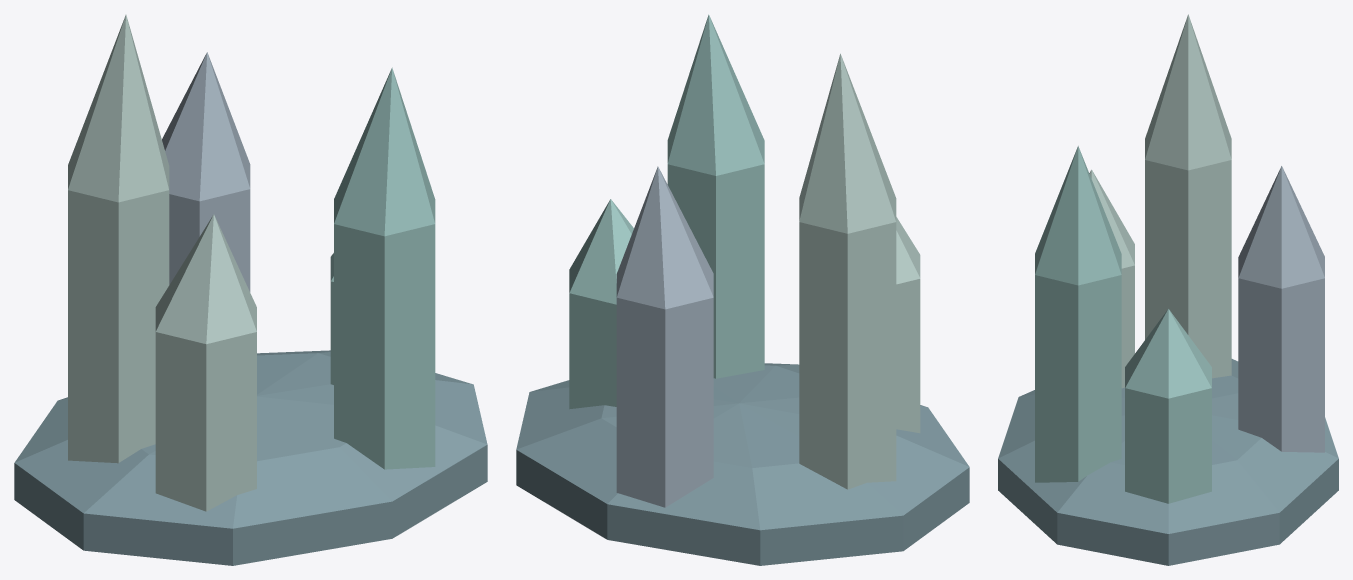
The model's file is marine-crystal.glb.
3 views of the same model, side by side, from view 1: azimuth 30°, elevation 25°; view 2: azimuth 150°, elevation 25°; view 3: azimuth 270°, elevation 25° (orthographic). The views are drawn at different scales.
Parts seen in each view (by area): view 1: marine-crystal; view 2: marine-crystal; view 3: marine-crystal.
Boxes of the visible parts, left/top/right/bottom form: marine-crystal: left=14, top=14, right=487, bottom=565; marine-crystal: left=516, top=14, right=969, bottom=565; marine-crystal: left=998, top=14, right=1338, bottom=565.
Size of the model in its own units: 1.84 by 2.17 by 1.5.
